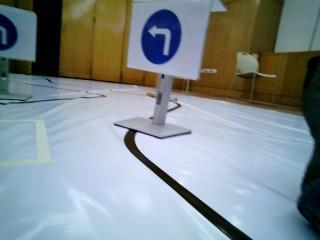left: (134, 4, 197, 71)
